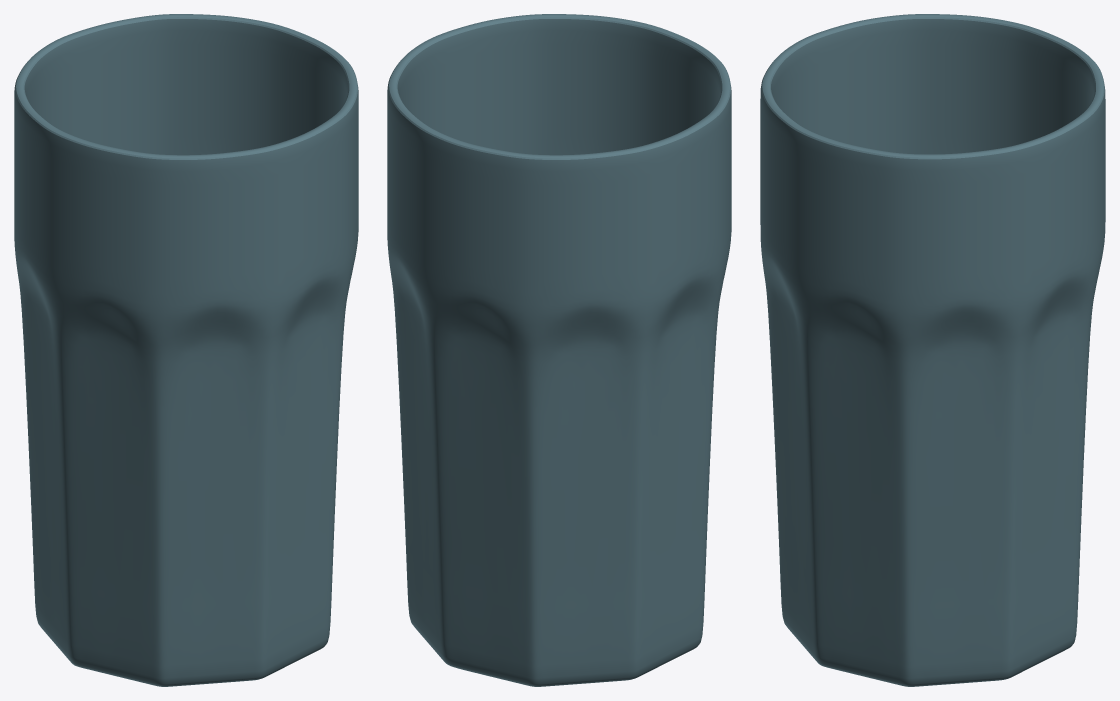
Rendered from VP_CoffeeGlass.FBX.
3 views of the same model, side by side, from view 1: azimuth 30°, elevation 25°; view 2: azimuth 150°, elevation 25°; view 3: azimuth 270°, elevation 25° (orthographic).
Parts seen in each view (by area): view 1: VP_CoffeeGlass; view 2: VP_CoffeeGlass; view 3: VP_CoffeeGlass.
Part boxes in pixels (<box>): VP_CoffeeGlass: <box>14,14,358,686</box>; VP_CoffeeGlass: <box>387,14,731,686</box>; VP_CoffeeGlass: <box>760,14,1105,686</box>.
Size of what is drawn, in the model's own units: 5.6 by 5.6 by 9.74.
